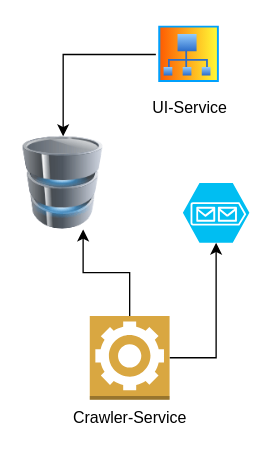
The diagram is 277 pixels wide and 450 high, and some of its shapes have lost their labels. Each missing label, with the centre of its shape:
"Mongo" belongs at [62,182].
"Rabbit MQ" belongs at [215,212].
